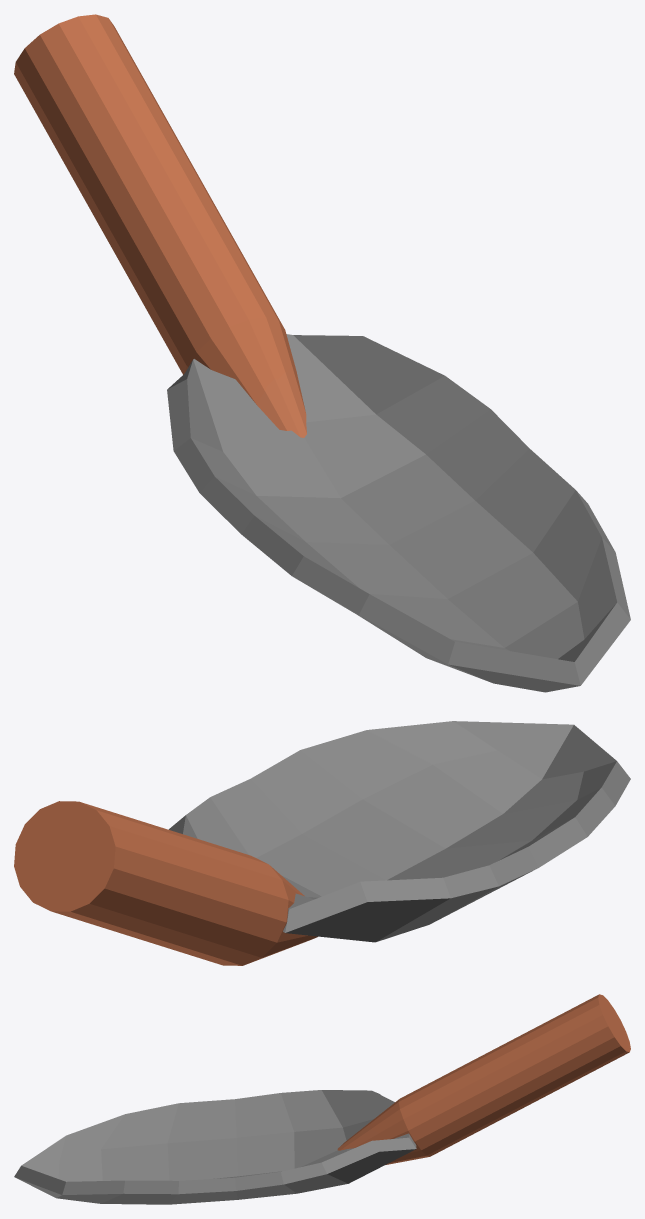
File: Hand schep.fbx
3 views of the same model, one above another, from view 1: azimuth 30°, elevation 25°; view 2: azimuth 150°, elevation 25°; view 3: azimuth 270°, elevation 25° (orthographic). The views are drawn at different scales.
Parts seen in each view (by area): view 1: Plane; view 2: Plane; view 3: Plane.
Part boxes in pixels (x1,y1,x2,y2): Plane: (14,14,630,692); Plane: (14,721,630,965); Plane: (14,994,630,1204).
Size of the model in its own units: 0.0619 by 0.0677 by 0.188.
